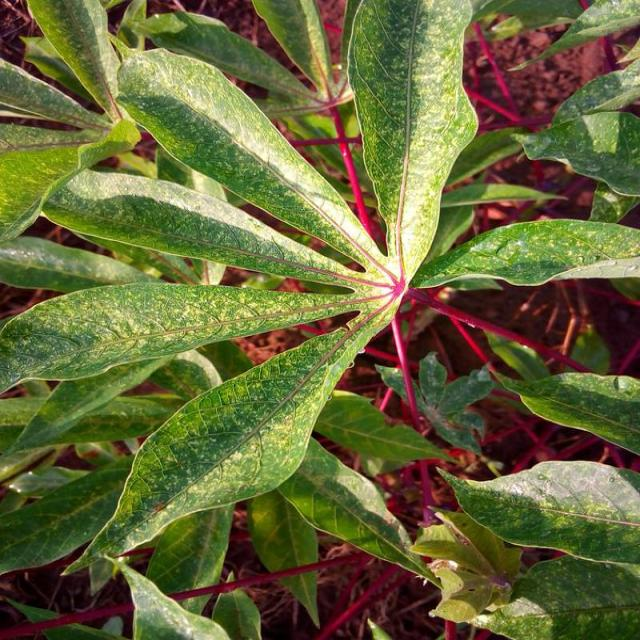cassava leaf: (2, 0, 639, 633), (116, 45, 386, 273), (346, 0, 480, 284)
